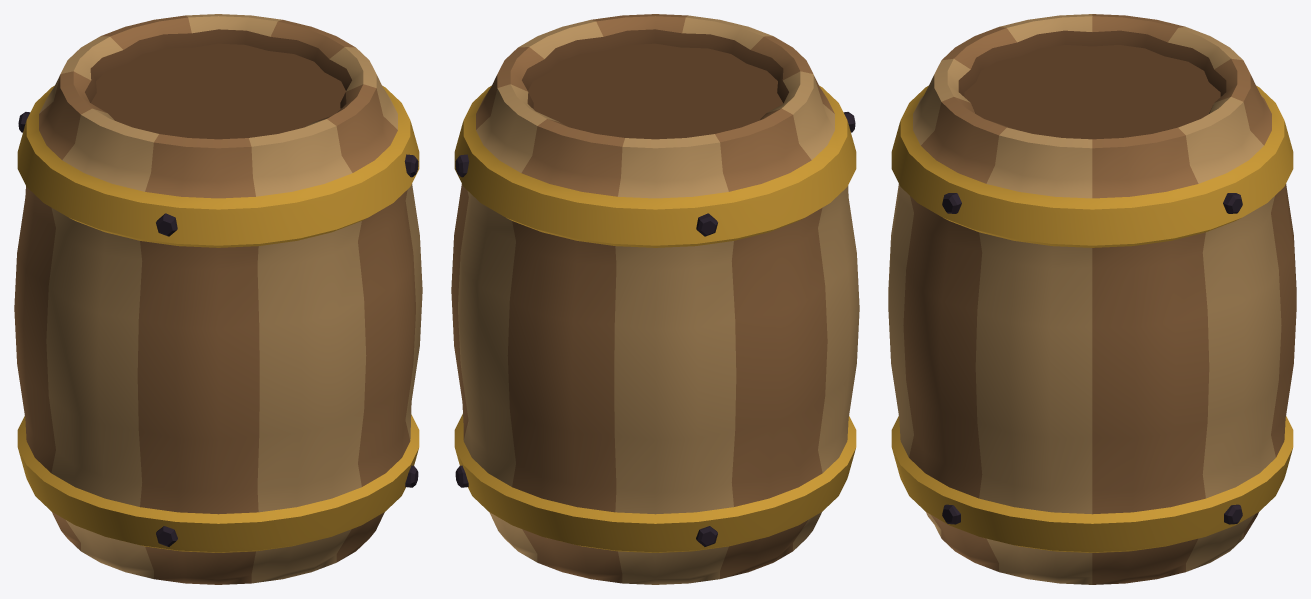
The model's file is Barrel_09.glb.
The picture shows the model from 3 angles, left to right: view 1: azimuth 30°, elevation 25°; view 2: azimuth 150°, elevation 25°; view 3: azimuth 270°, elevation 25°; orthographic projection.
Visible parts, largest first — view 1: Barrel_09; view 2: Barrel_09; view 3: Barrel_09.
Part boxes in pixels (x1=…): Barrel_09: x1=14, y1=14, x2=422, y2=584; Barrel_09: x1=451, y1=14, x2=859, y2=584; Barrel_09: x1=888, y1=14, x2=1296, y2=584.
Size of the model in its own units: 2.15 by 2.61 by 2.18.
